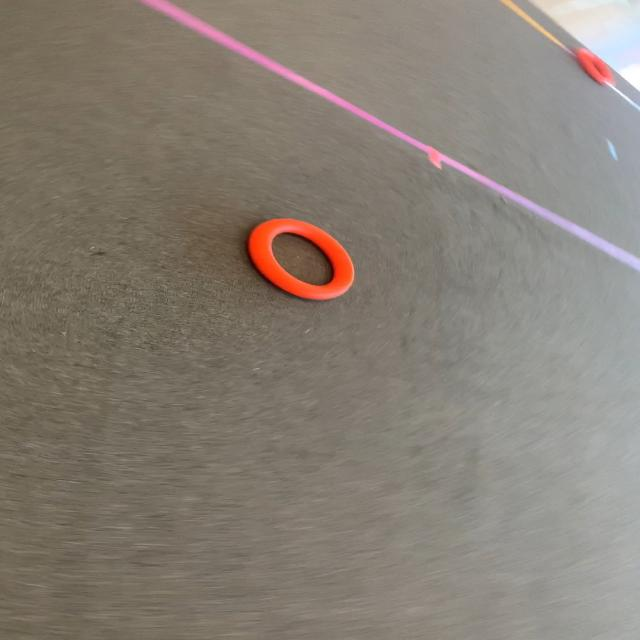notes: (247, 217, 358, 302)
